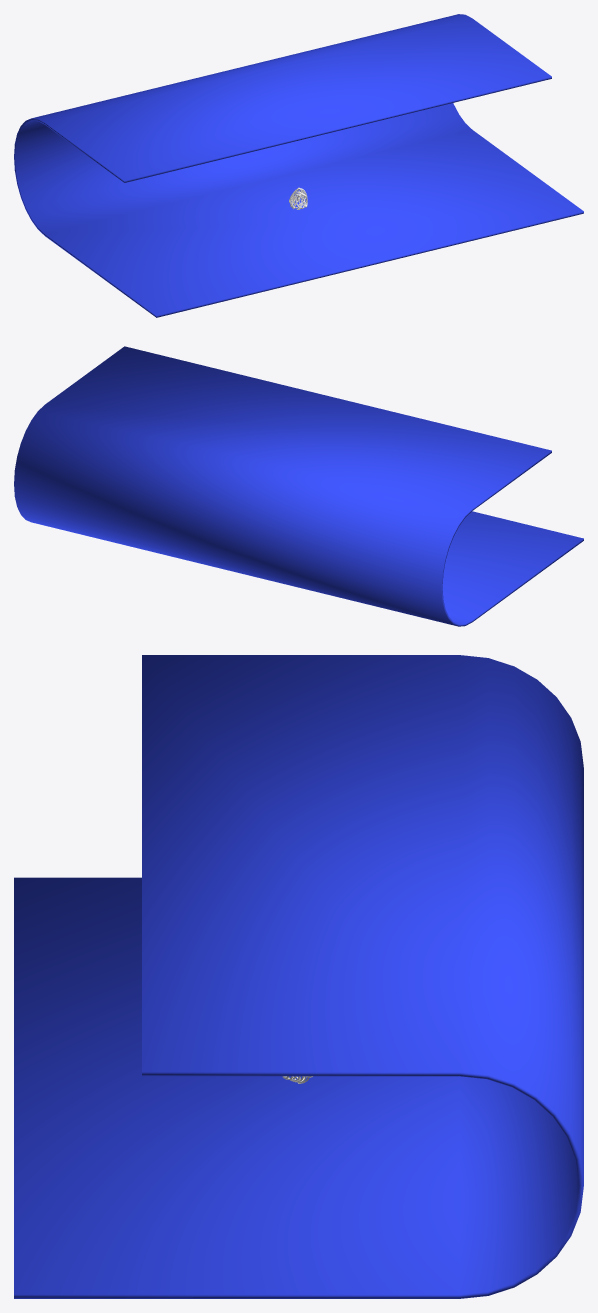
The model's file is 3d_printed_object_108.FBX.
The picture shows the model from 3 angles, top to bottom: view 1: azimuth 30°, elevation 25°; view 2: azimuth 150°, elevation 25°; view 3: azimuth 270°, elevation 25°; orthographic projection. The views are drawn at different scales.
Parts seen in each view (by area): view 1: studio_backgrounds; view 2: studio_backgrounds; view 3: studio_backgrounds.
Part boxes in pixels (x1=…): studio_backgrounds: x1=14, y1=14, x2=583, y2=317; studio_backgrounds: x1=14, y1=346, x2=583, y2=626; studio_backgrounds: x1=14, y1=655, x2=583, y2=1298.
Bounding box in the file's own units: 787 × 200 × 455.
